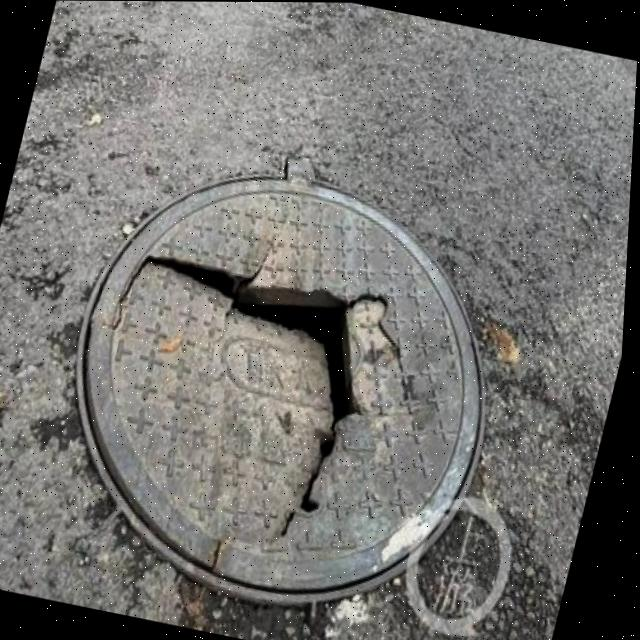manhole: (25, 117, 546, 638)
